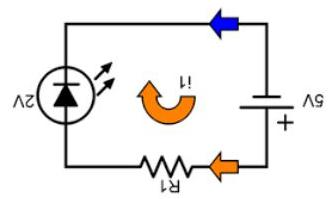Battery: (239, 77, 297, 132)
